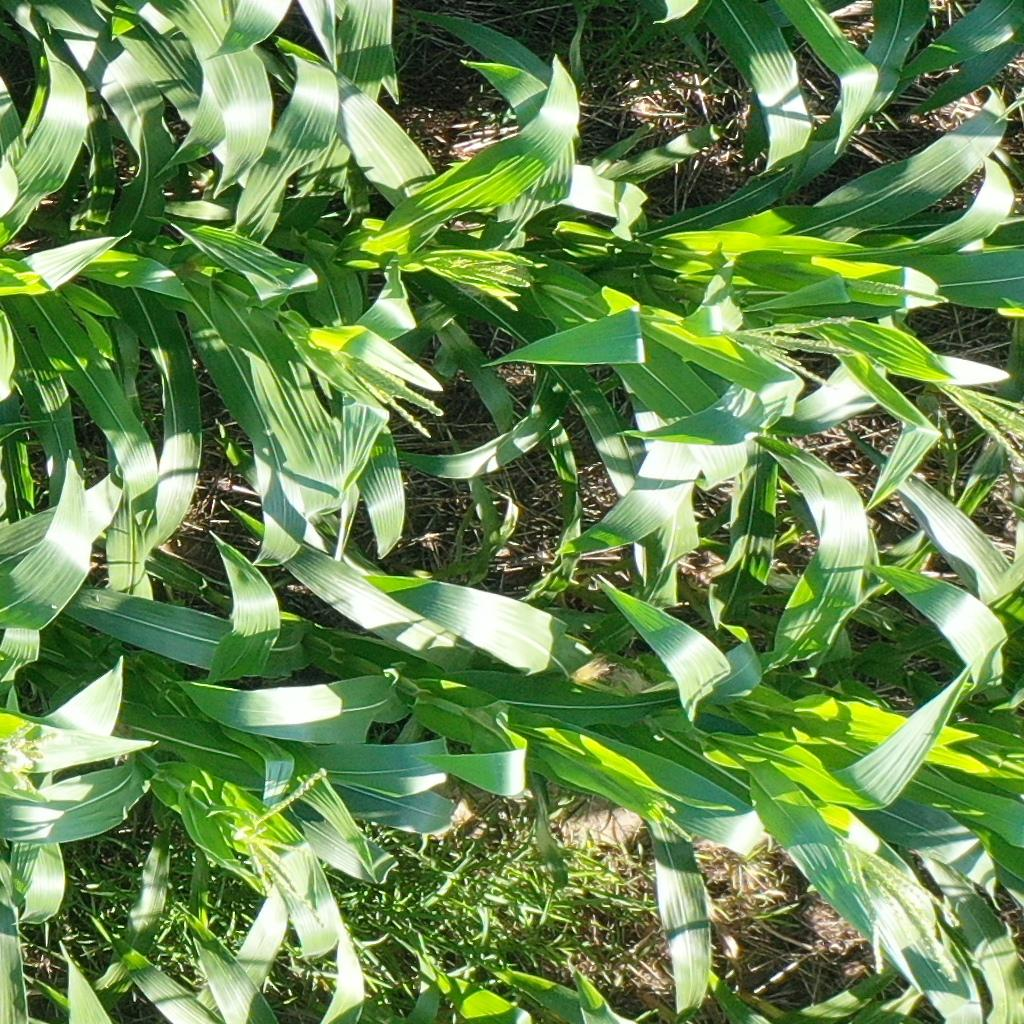Tassel: (827, 834, 964, 983), (228, 763, 344, 928), (723, 313, 860, 391), (342, 345, 447, 432), (938, 382, 1024, 465), (433, 250, 538, 309), (1, 720, 75, 803), (840, 270, 946, 305), (643, 791, 698, 841)
